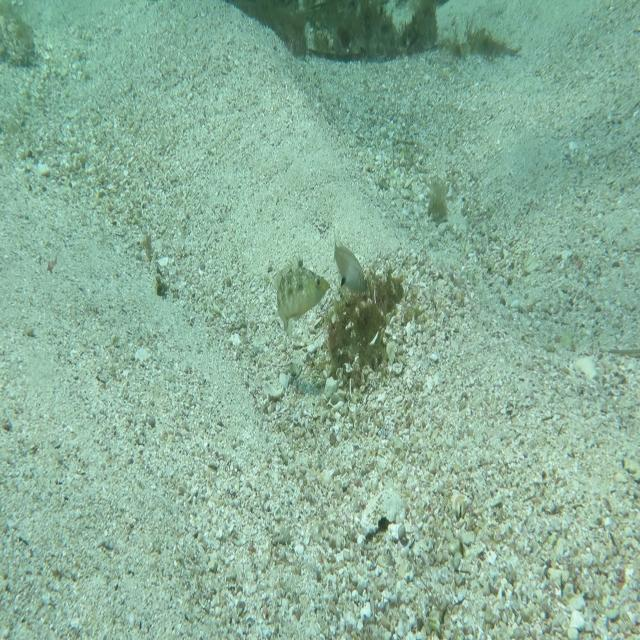GB: (273, 252, 331, 335)
female: (327, 228, 371, 306)
nest: (303, 264, 399, 401)
vegetation: (235, 0, 454, 65), (420, 180, 448, 233)
